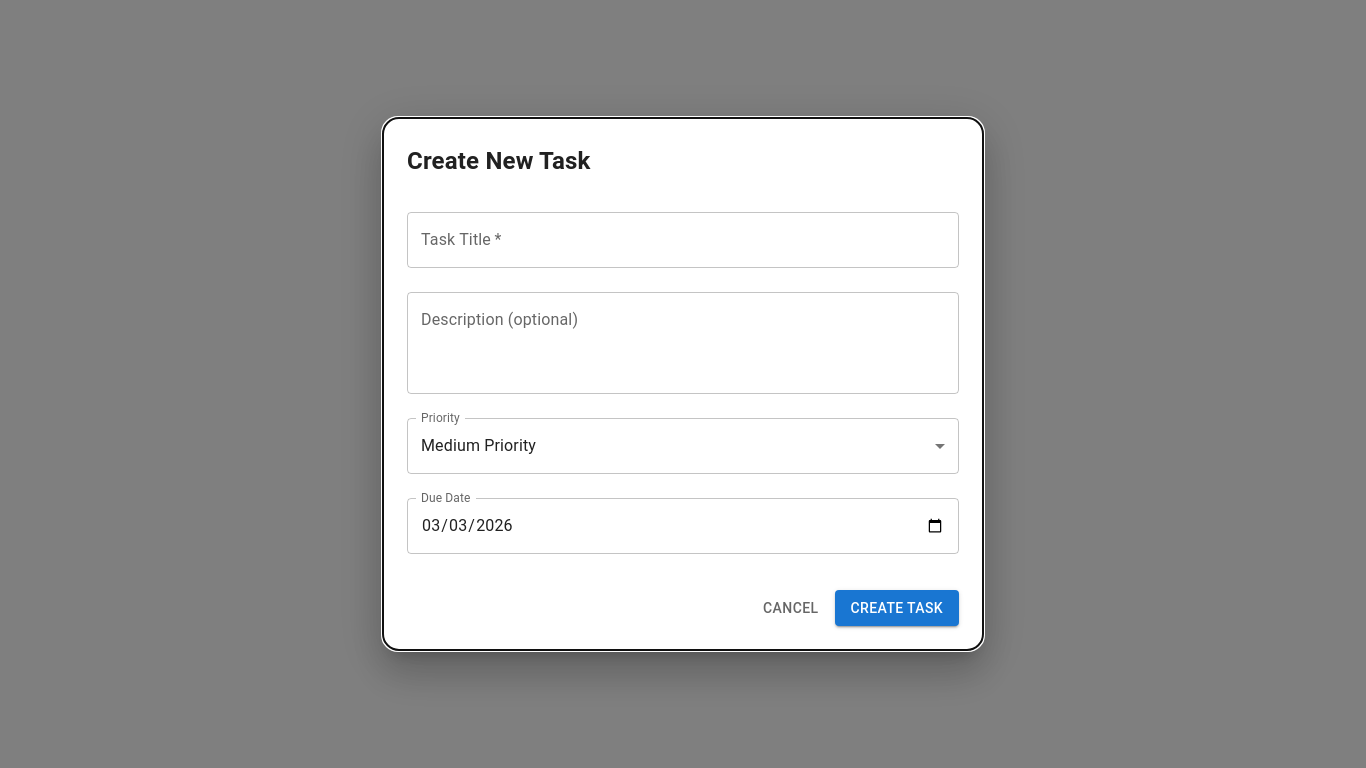
Test: CreateTaskModal › renders priority options
The width and height of the screenshot is (1366, 768).
Step 1. Press the mouse on the dropdown labelled "Medium Priority" → [479, 446], box [421,436,536,455]
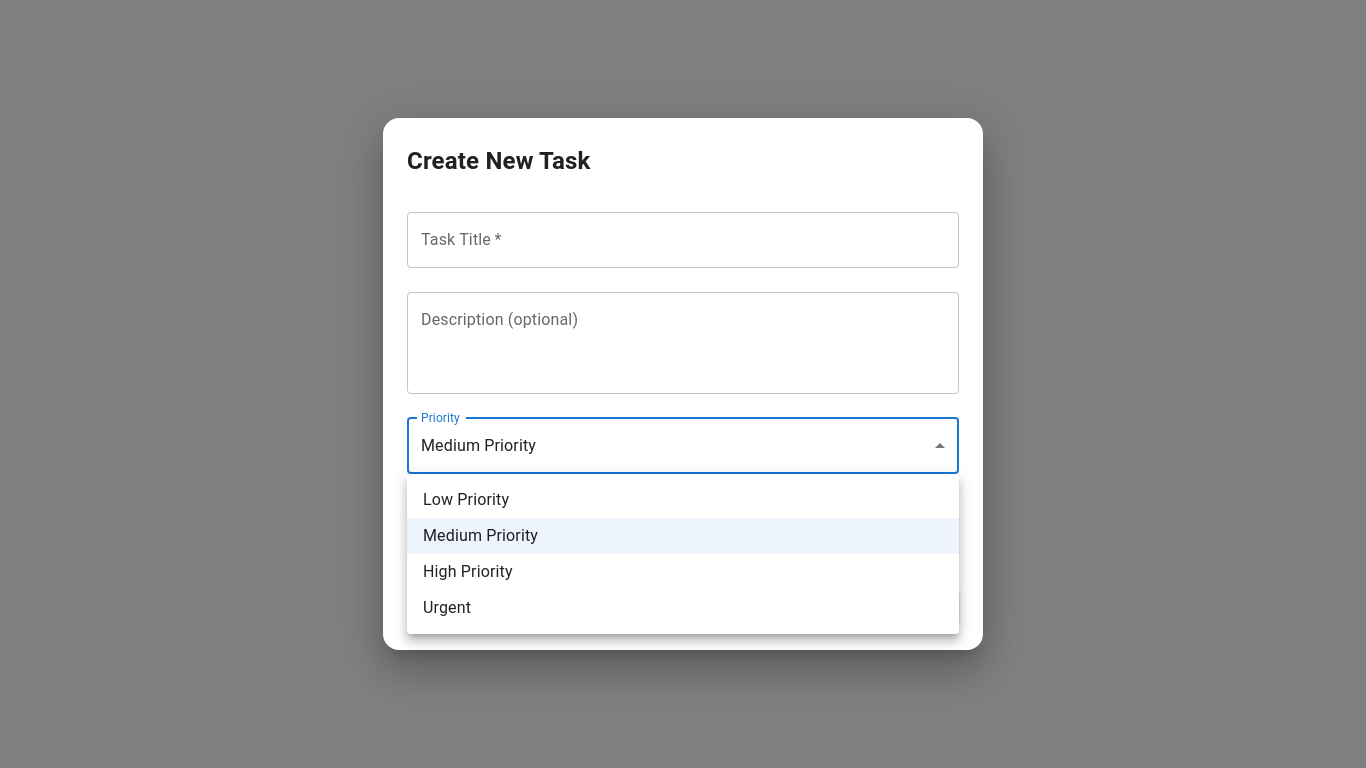
Check: the option "Low Priority" is shown, box [423,490,509,509]
Check: the option "Medium Priority" is shown, box [407,518,959,554]
Check: the option "High Priority" is shown, box [423,562,513,581]
